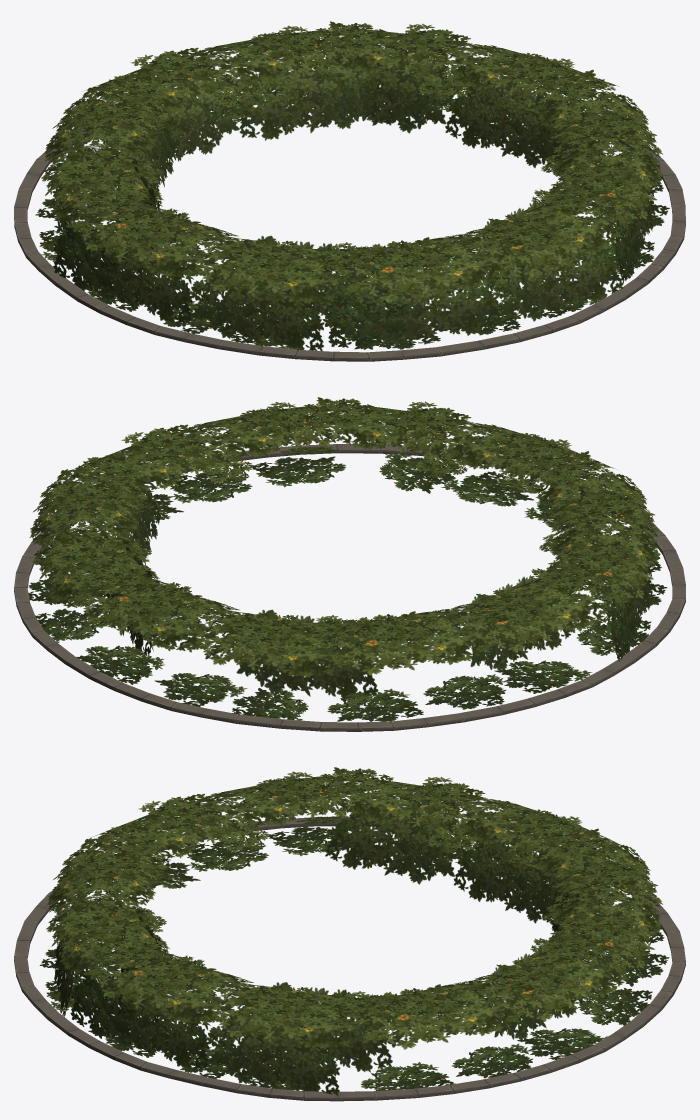
File: gate_main.glb
The picture shows the model from 3 angles, top to bottom: view 1: azimuth 30°, elevation 25°; view 2: azimuth 150°, elevation 25°; view 3: azimuth 270°, elevation 25°; orthographic projection.
Parts seen in each view (by area): view 1: cs_zhucheng_02, cs_zhucheng_03; view 2: cs_zhucheng_02, cs_zhucheng_03; view 3: cs_zhucheng_02, cs_zhucheng_03.
Part boxes in pixels (<box>): cs_zhucheng_02: <box>35,21,669,350</box>; cs_zhucheng_03: <box>14,74,685,361</box>; cs_zhucheng_02: <box>28,397,667,721</box>; cs_zhucheng_03: <box>14,444,685,731</box>; cs_zhucheng_02: <box>39,767,669,1095</box>; cs_zhucheng_03: <box>14,816,685,1101</box>.
Bounding box in the file's own units: 13.25 × 1.69 × 13.14.
Materials: 2 (2 with a texture image).
